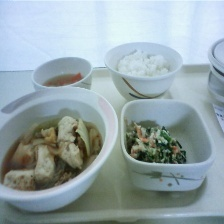rice: (119, 47, 171, 77)
